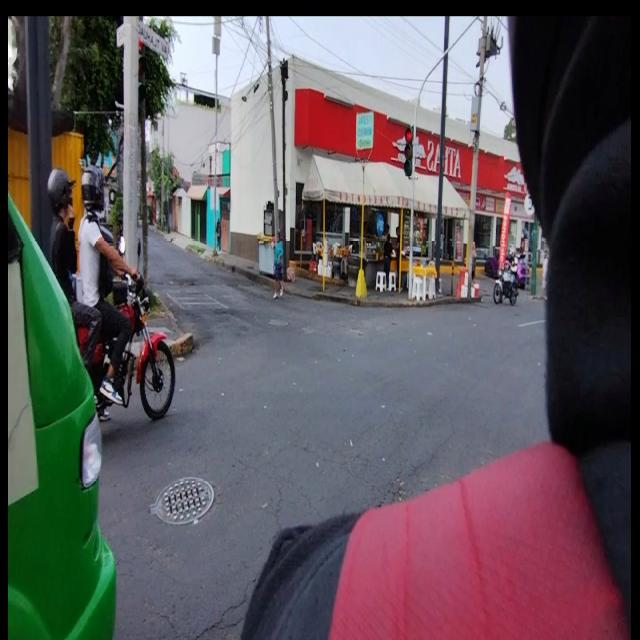adult: (76, 167, 136, 406), (49, 164, 77, 300)
